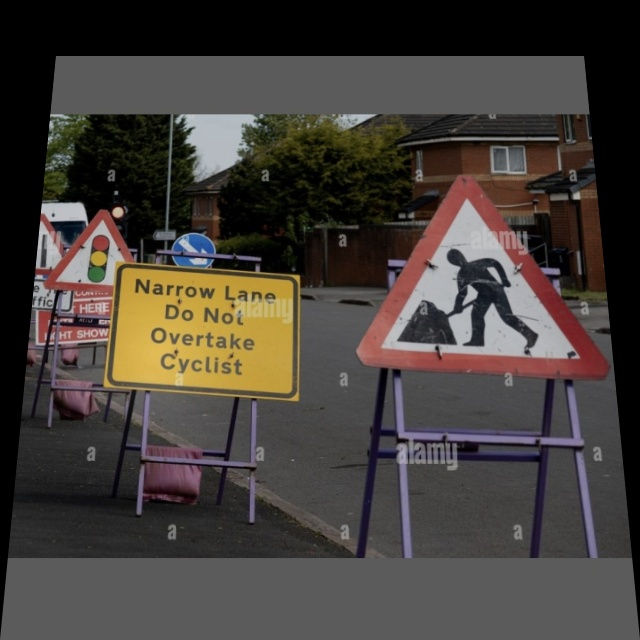Men_at_Work: (354, 162, 608, 382)
